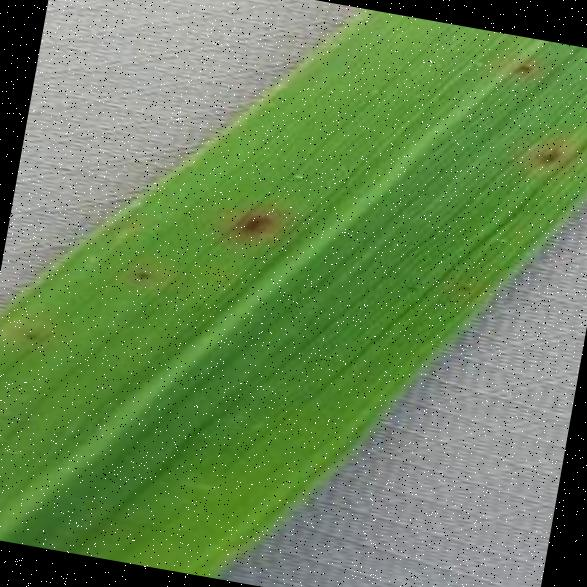Brown_Spot: (211, 186, 290, 254), (514, 129, 574, 175), (502, 46, 542, 84), (279, 158, 312, 187), (124, 260, 158, 286), (396, 272, 426, 300), (450, 274, 475, 302), (16, 322, 40, 346)
